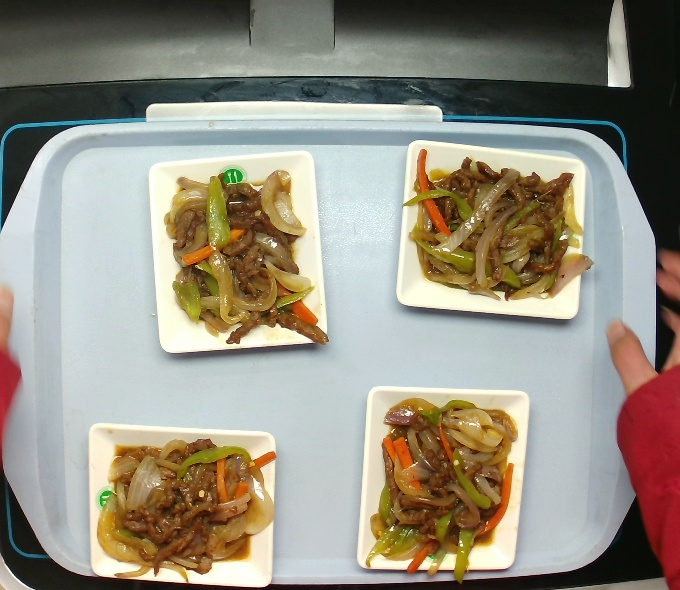wcq-NiuYangCongNiuLiu: (158, 157, 332, 350), (93, 427, 280, 583), (404, 148, 591, 296), (359, 398, 515, 573)
